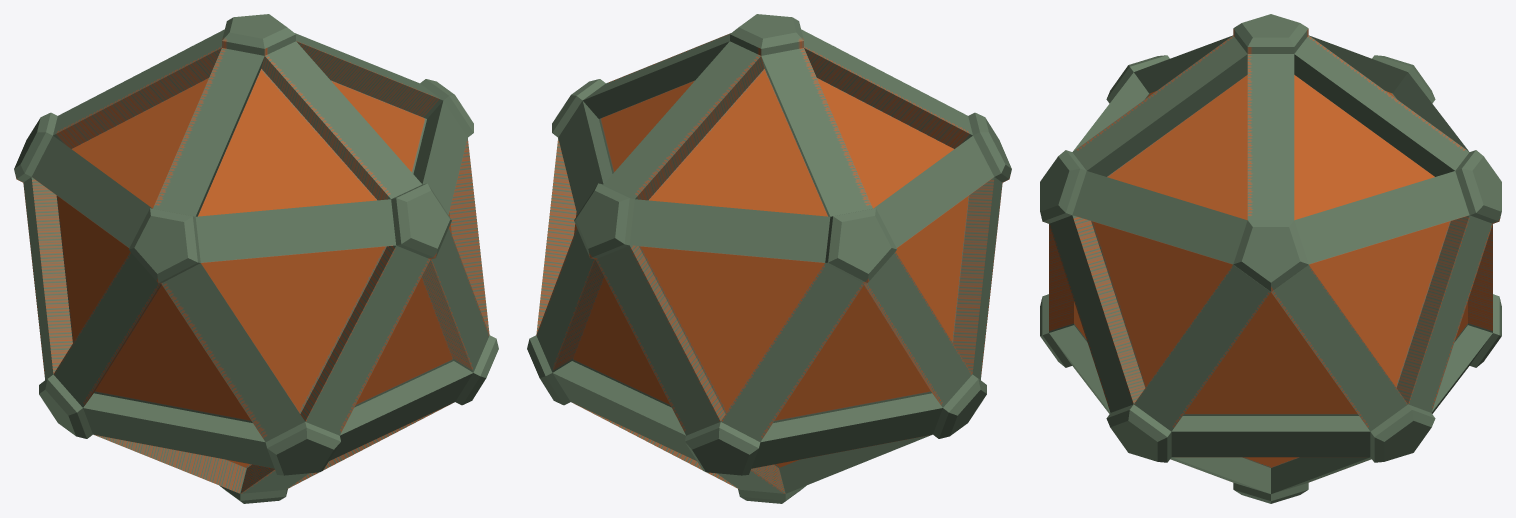
The model's file is Lever.fbx.
The picture shows the model from 3 angles, left to right: view 1: azimuth 30°, elevation 25°; view 2: azimuth 150°, elevation 25°; view 3: azimuth 270°, elevation 25°; orthographic projection.
Visible parts, largest first — view 1: Icosphere; view 2: Icosphere; view 3: Icosphere.
Part boxes in pixels (x1,y1,x2,y2): Icosphere: [14, 14, 498, 503]; Icosphere: [527, 14, 1011, 503]; Icosphere: [1040, 14, 1501, 503].
Bounding box in the file's own units: 70.41 × 74.26 × 66.97.
1 material, 1 textured.
